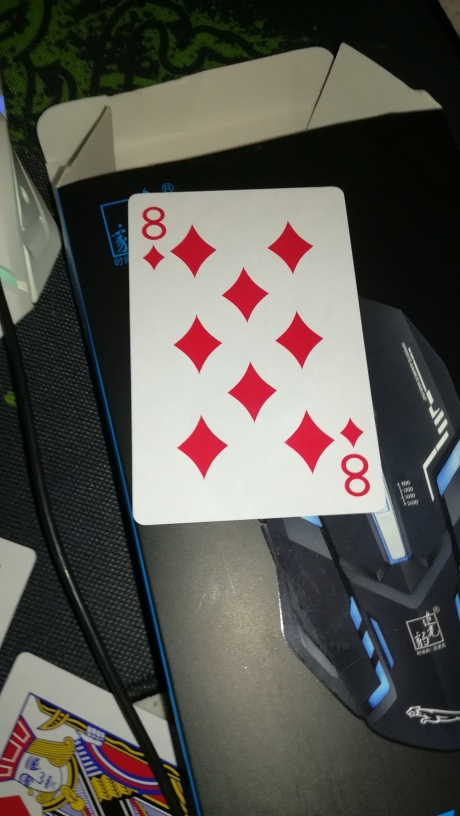fk 8: (125, 186, 384, 531)
